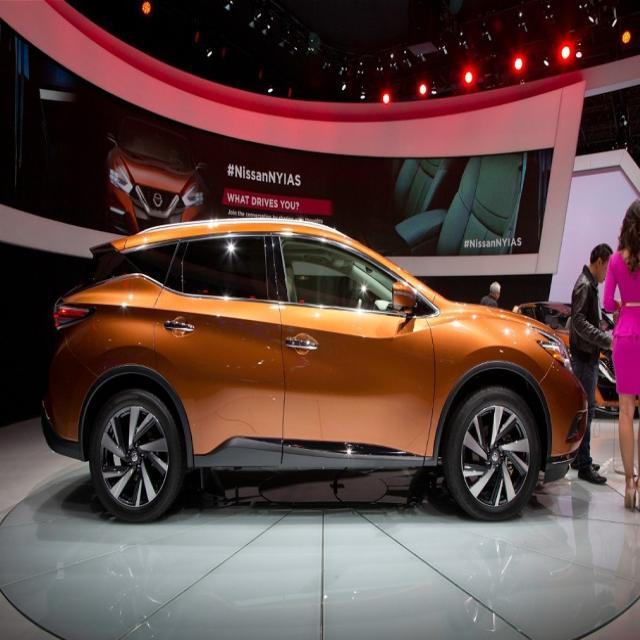back_right_side_light: (54, 296, 98, 332)
door: (149, 228, 283, 479)
front_bumper: (536, 358, 588, 488)
front_right_side_door: (270, 225, 438, 476)
front_right_side_light: (530, 324, 574, 374)
front_right_side_mirror: (391, 280, 418, 319)
rear_bumper: (41, 335, 100, 463)
wheel: (87, 388, 182, 524), (442, 386, 538, 520)
